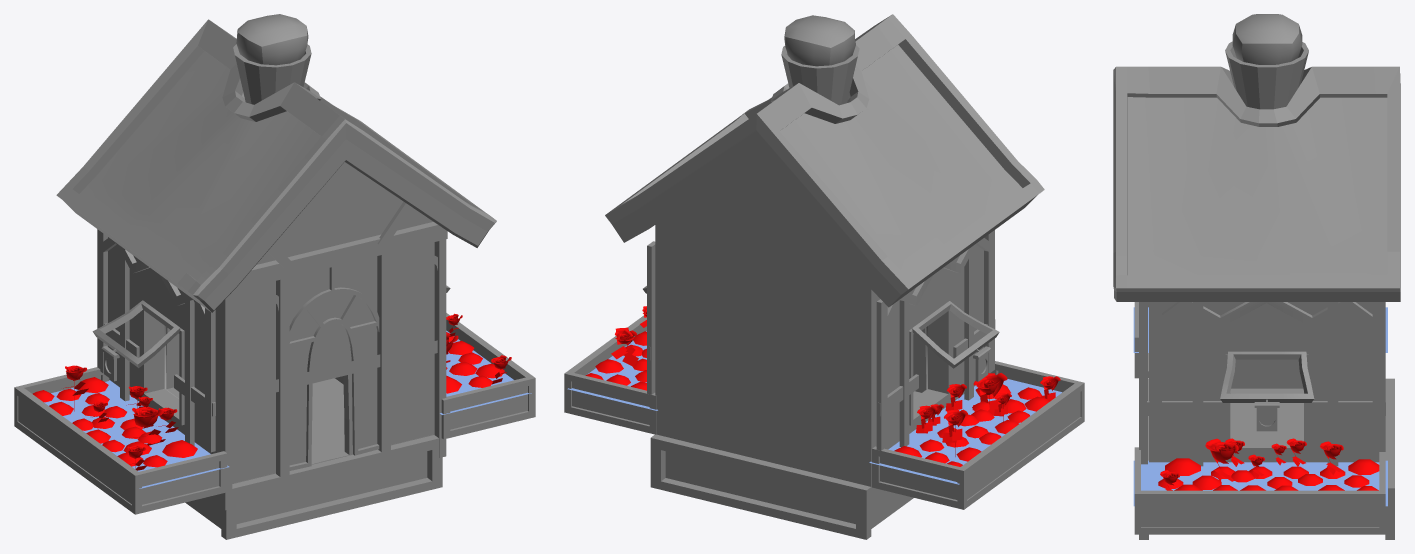
The model's file is Oli_BirdHouse_Complete (3).fbx.
The picture shows the model from 3 angles, left to right: view 1: azimuth 30°, elevation 25°; view 2: azimuth 150°, elevation 25°; view 3: azimuth 270°, elevation 25°; orthographic projection. The views are drawn at different scales.
Parts seen in each view (by area): view 1: Plane002, Rectangle009, Object136, Object086, Plane606, Object116, Plane615, Plane635, Plane385, Box131, Rectangle073, Shape007 (+6 smaller); view 2: Object156, Object136, Object086, Rectangle009, Plane002, Plane606, Object116, Plane615, Box131, Rectangle073, Plane635, Plane385 (+7 smaller); view 3: Object136, Object086, Plane002, Rectangle009, Object099, Plane385, Plane559, Plane566, Object135, Box131, Object001, Object154 (+5 smaller).
Boxes of the visible parts, x1,y1,x2,y2 form: Plane002: (108,162,434,528); Rectangle009: (92,201,450,539); Object136: (79,51,321,280); Object086: (56,19,496,312); Plane606: (14,367,227,514); Object116: (18,375,219,504); Plane615: (33,377,197,467); Plane635: (44,380,229,488); Plane385: (441,313,535,439); Box131: (236,14,308,65); Rectangle073: (97,229,215,452); Shape007: (141,310,184,425); Object156: (655,156,871,524); Object136: (779,45,1022,274); Object086: (605,14,1044,307); Rectangle009: (643,238,999,539); Plane002: (871,245,983,528); Plane606: (872,361,1084,509); Object116: (880,371,1080,499); Plane615: (894,384,1049,466); Box131: (784,15,855,66); Rectangle073: (876,230,994,450); Plane635: (869,379,1061,484); Plane385: (564,315,656,434); Object136: (1127,97,1387,275); Object086: (1113,66,1400,301); Plane002: (1149,302,1379,462); Rectangle009: (1139,302,1394,539); Object099: (1141,500,1379,526); Plane385: (1134,447,1385,534); Plane559: (1158,458,1379,490); Plane566: (1133,460,1387,506); Object135: (1225,41,1308,109); Box131: (1232,14,1302,64); Object001: (1230,388,1303,437); Object154: (1231,359,1303,388).
Bounding box in the file's own units: 79.43 × 84.41 × 47.46.
